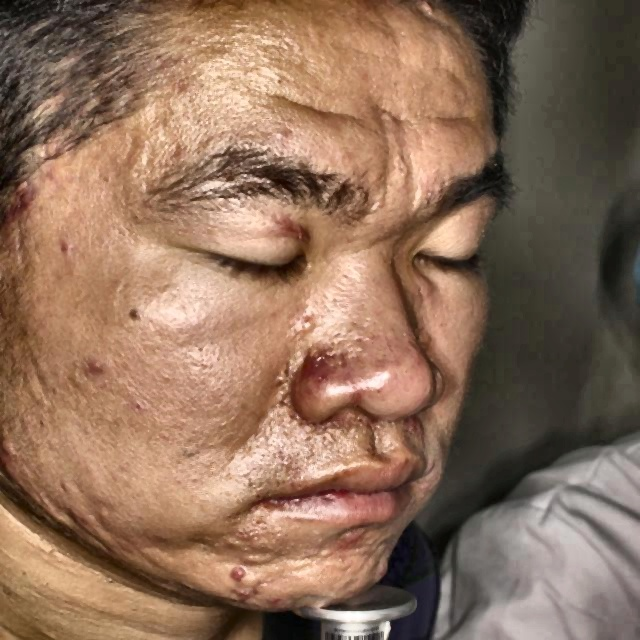pustule: (298, 341, 341, 383), (11, 181, 48, 211), (34, 499, 68, 525), (82, 349, 109, 377), (332, 526, 364, 549), (226, 557, 245, 576), (63, 238, 76, 265)
